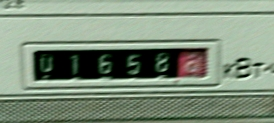0: (36, 51, 54, 73)
1: (66, 52, 81, 76)
5: (124, 52, 141, 76)
6: (95, 52, 114, 76)
8: (152, 51, 170, 73)
9: (182, 58, 198, 79)
screen: (17, 32, 225, 97)
